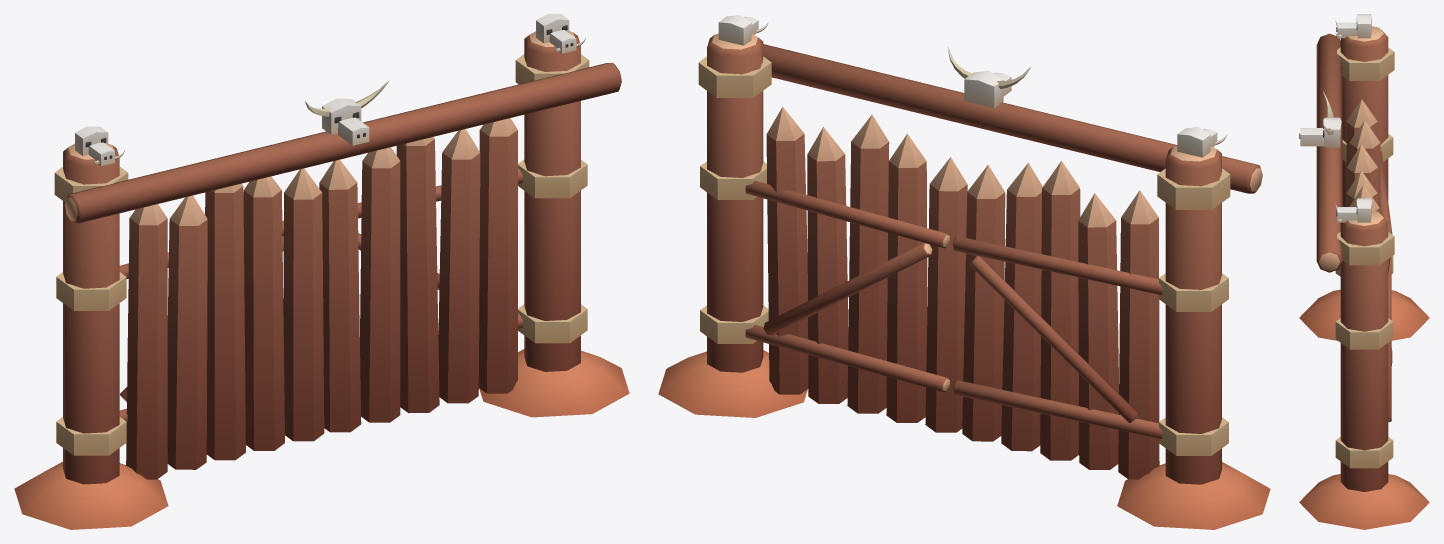
File: palisade_gate.fbx
3 views of the same model, side by side, from view 1: azimuth 30°, elevation 25°; view 2: azimuth 150°, elevation 25°; view 3: azimuth 270°, elevation 25° (orthographic). The views are drawn at different scales.
Parts seen in each view (by area): view 1: palisade_gate, palisade_gate_L, palisade_gate_R; view 2: palisade_gate, palisade_gate_R, palisade_gate_L; view 3: palisade_gate, palisade_gate_L, palisade_gate_R.
Boxes of the visible parts, <box> form: palisade_gate: <box>14,14,629,529</box>; palisade_gate_L: <box>119,168,324,479</box>; palisade_gate_R: <box>319,118,522,432</box>; palisade_gate: <box>658,15,1270,529</box>; palisade_gate_R: <box>745,107,967,432</box>; palisade_gate_L: <box>953,161,1162,479</box>; palisade_gate: <box>1299,14,1429,529</box>; palisade_gate_L: <box>1346,99,1392,355</box>; palisade_gate_R: <box>1349,185,1392,422</box>.
Size of the model in its own units: 2.6 by 1.56 by 0.6.
Materials: 1 (1 with a texture image).
